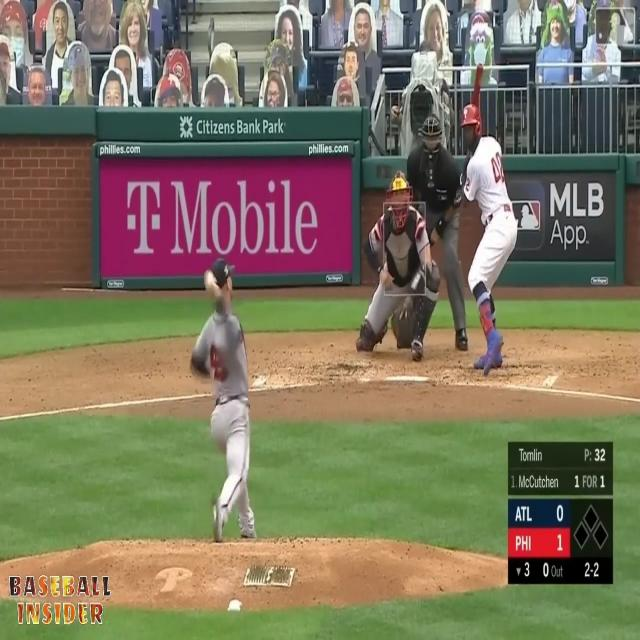baseball: (204, 269, 215, 287)
